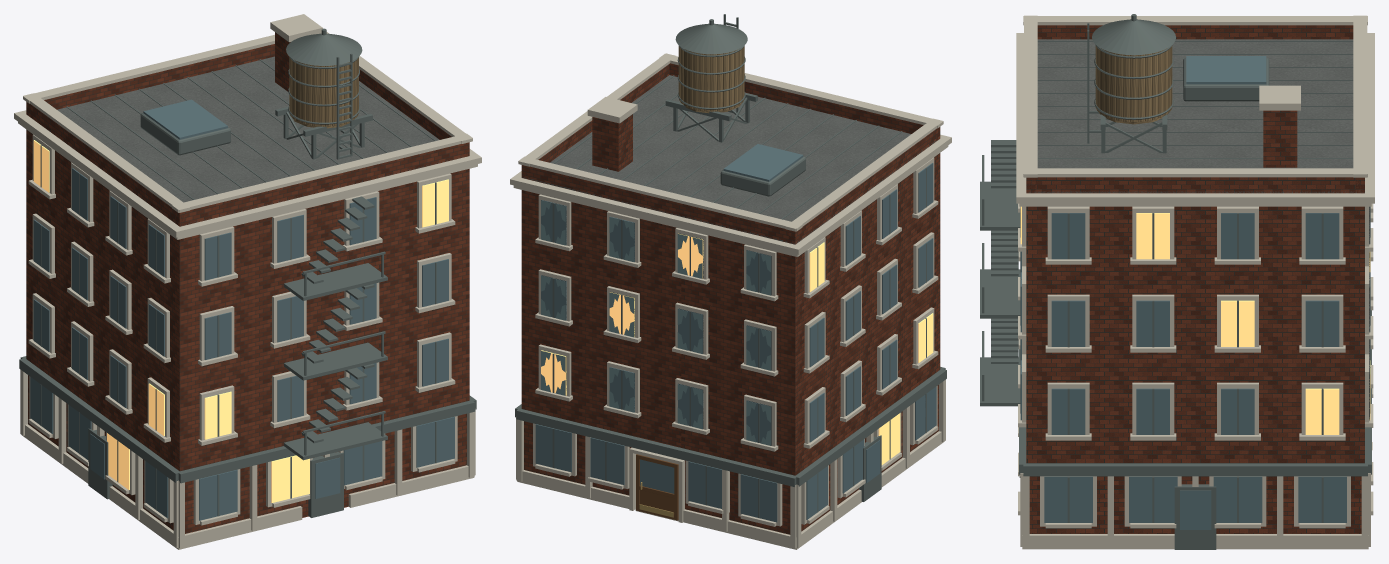
Rendered from tenement.glb.
3 renders of one model, left to right at view 1: azimuth 30°, elevation 25°; view 2: azimuth 150°, elevation 25°; view 3: azimuth 270°, elevation 25°, orthographic. The views are drawn at different scales.
Visible parts, largest first — view 1: masonry wing, foundation wing, roof tar seam, window pane, roof, window pane.001, tank floor; view 2: masonry wing, foundation wing, roof, window pane, roof tar seam, window pane.020, window glass remnant, tank floor, window pane.001, window pane.023, door bottom rail, door glazing (+1 smaller); view 3: masonry wing, foundation wing, roof tar seam, window pane, roof, tank floor, window pane.001.
Part boxes in pixels (x1=…): masonry wing: x1=26, y1=32, x2=469, y2=533; foundation wing: x1=14, y1=14, x2=481, y2=549; roof tar seam: x1=19, y1=28, x2=476, y2=517; window pane: x1=30, y1=99, x2=454, y2=520; roof: x1=35, y1=56, x2=462, y2=224; window pane.001: x1=33, y1=140, x2=448, y2=502; tank floor: x1=289, y1=57, x2=358, y2=128; masonry wing: x1=521, y1=63, x2=940, y2=534; foundation wing: x1=510, y1=53, x2=951, y2=549; roof: x1=522, y1=75, x2=940, y2=244; window pane: x1=535, y1=144, x2=936, y2=522; roof tar seam: x1=515, y1=14, x2=946, y2=518; window pane.020: x1=541, y1=200, x2=771, y2=445; window glass remnant: x1=541, y1=200, x2=770, y2=445; tank floor: x1=678, y1=46, x2=744, y2=113; window pane.001: x1=809, y1=242, x2=933, y2=464; window pane.023: x1=541, y1=233, x2=703, y2=395; door bottom rail: x1=636, y1=454, x2=678, y2=520; door glazing: x1=640, y1=459, x2=674, y2=493; masonry wing: x1=1026, y1=25, x2=1364, y2=533; foundation wing: x1=1016, y1=15, x2=1374, y2=549; roof tar seam: x1=980, y1=14, x2=1371, y2=549; window pane: x1=1020, y1=56, x2=1346, y2=529; roof: x1=1026, y1=39, x2=1364, y2=193; tank floor: x1=1095, y1=46, x2=1172, y2=124; window pane.001: x1=1020, y1=206, x2=1339, y2=434.
Size of the model in its own units: 12.65 by 17.31 by 12.82.
Materials: 11 (3 with a texture image).
